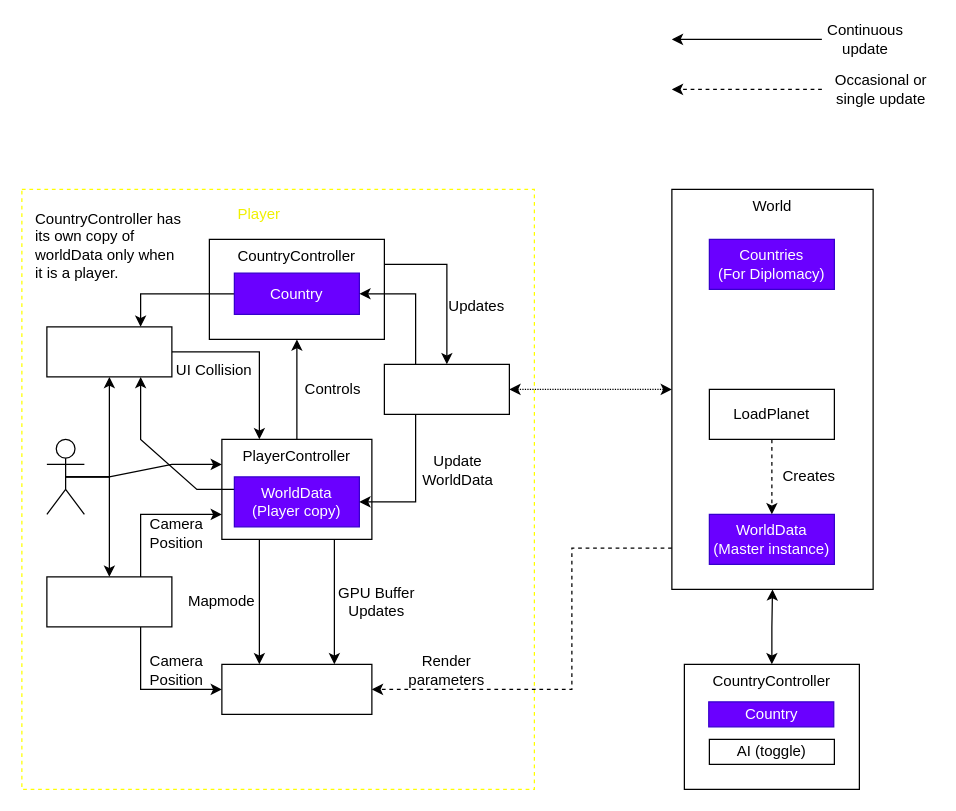
The diagram is 956 pixels wide and 811 high, and some of its shapes have lost their labels. The centre of each missing label's shape, as x and y in pixels:
CameraControls: [109,601]
Client: [446,388]
Player Input: [65,476]
RenderWorld: [296,688]
UIManager: [109,351]
